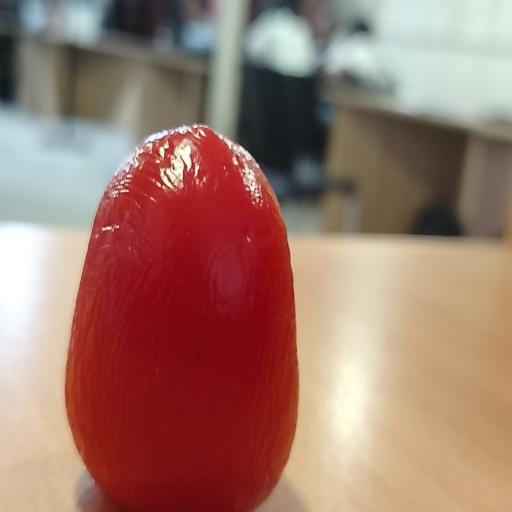spoiled: (65, 125, 298, 512)
